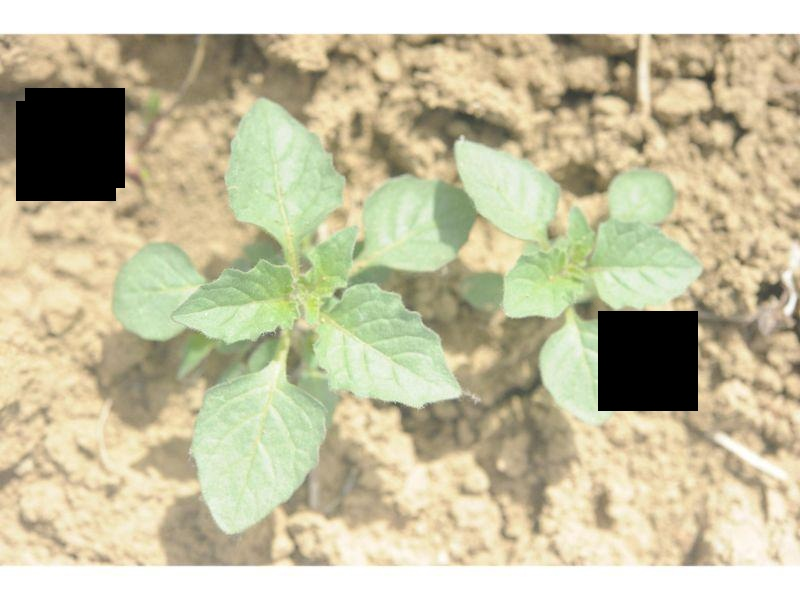nightshade: (114, 96, 477, 537), (457, 138, 701, 428)
